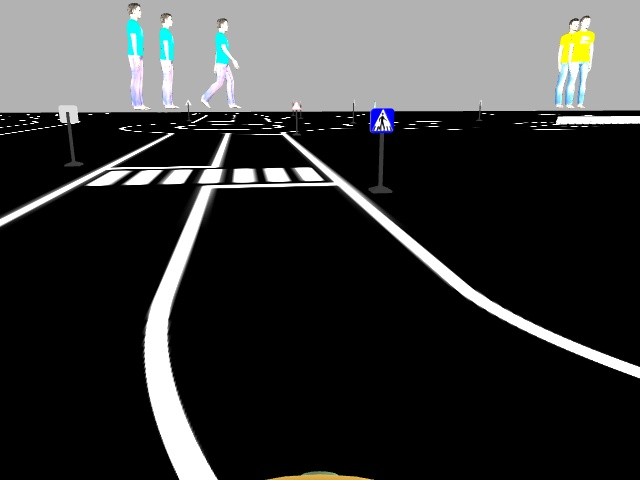Crosswalk: (368, 107, 394, 133)
